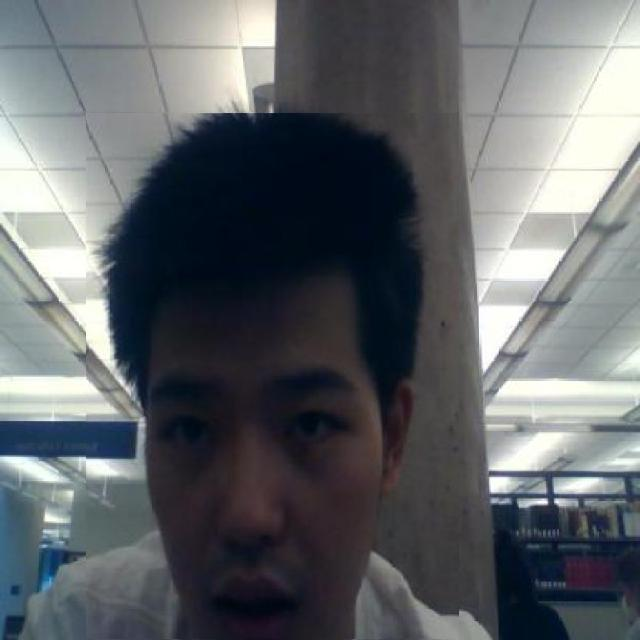Alert: (86, 114, 459, 640)
